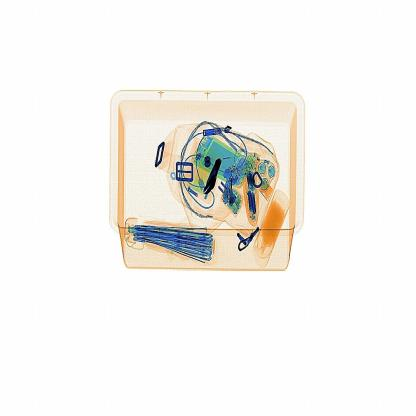knife: (202, 160, 222, 196)
